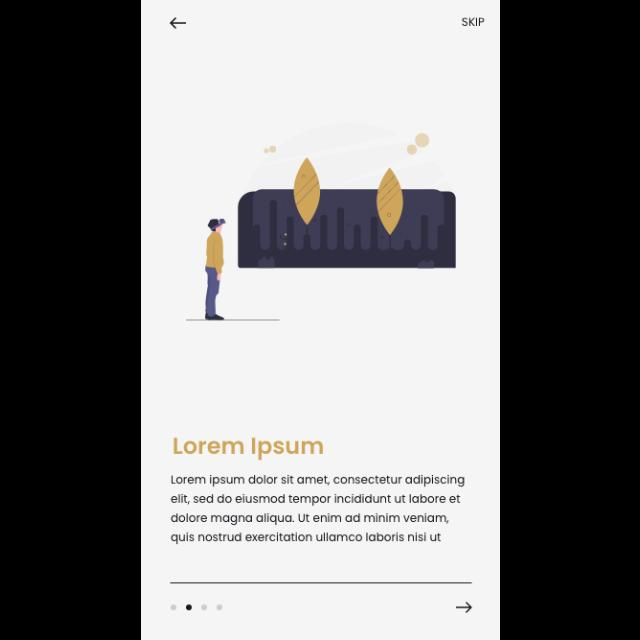icon: (455, 600, 473, 614), (169, 18, 187, 30)
image: (184, 123, 456, 321)
pageindicator: (170, 602, 223, 612)
text: (170, 474, 466, 546), (173, 438, 323, 460), (461, 18, 485, 28)
